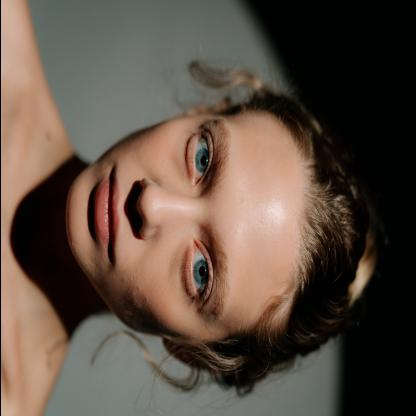Eye: (177, 232, 214, 310), (182, 122, 214, 195)
Mouth: (91, 161, 123, 270)
Nose: (135, 176, 191, 240)
